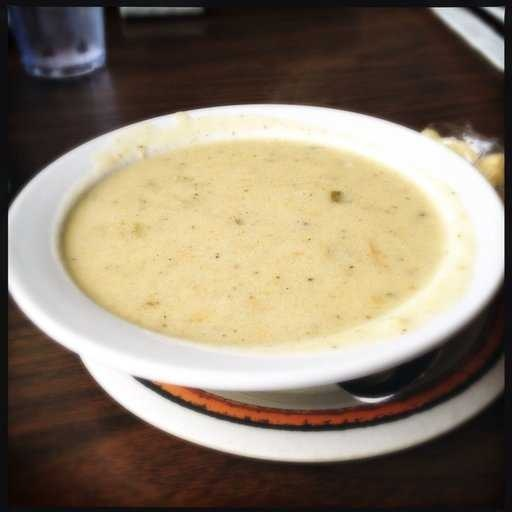soup: (38, 96, 468, 371)
